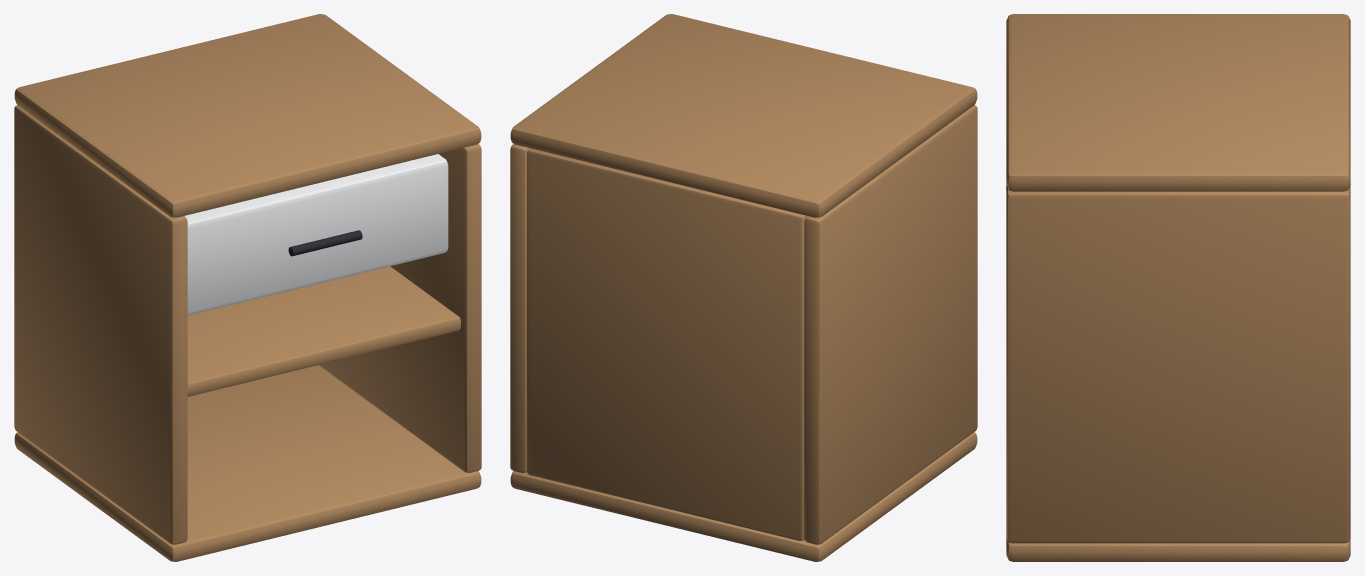
File: nightstand_open.glb
3 views of the same model, side by side, from view 1: azimuth 30°, elevation 25°; view 2: azimuth 150°, elevation 25°; view 3: azimuth 270°, elevation 25° (orthographic). The views are drawn at different scales.
Visible parts, largest first — view 1: box.002, box.001, box, box.006, box.003, box.005, cyl; view 2: box.004, box.002, box.001, box, box.003; view 3: box.003, box.001, box.
Boxes of the visible parts, x1,y1,x2,y2 form: box.002: [14, 105, 187, 544]; box.001: [14, 14, 481, 217]; box: [14, 365, 481, 561]; box.006: [185, 154, 448, 315]; box.003: [319, 144, 481, 472]; box.005: [187, 266, 460, 396]; cyl: [288, 230, 362, 256]; box.004: [527, 148, 806, 540]; box.002: [804, 105, 977, 544]; box.001: [510, 14, 977, 217]; box: [510, 432, 977, 561]; box.003: [510, 144, 529, 472]; box.003: [1006, 189, 1350, 543]; box.001: [1006, 14, 1350, 191]; box: [1006, 538, 1350, 561].
Bounding box in the file's own units: 45 × 50 × 40.
